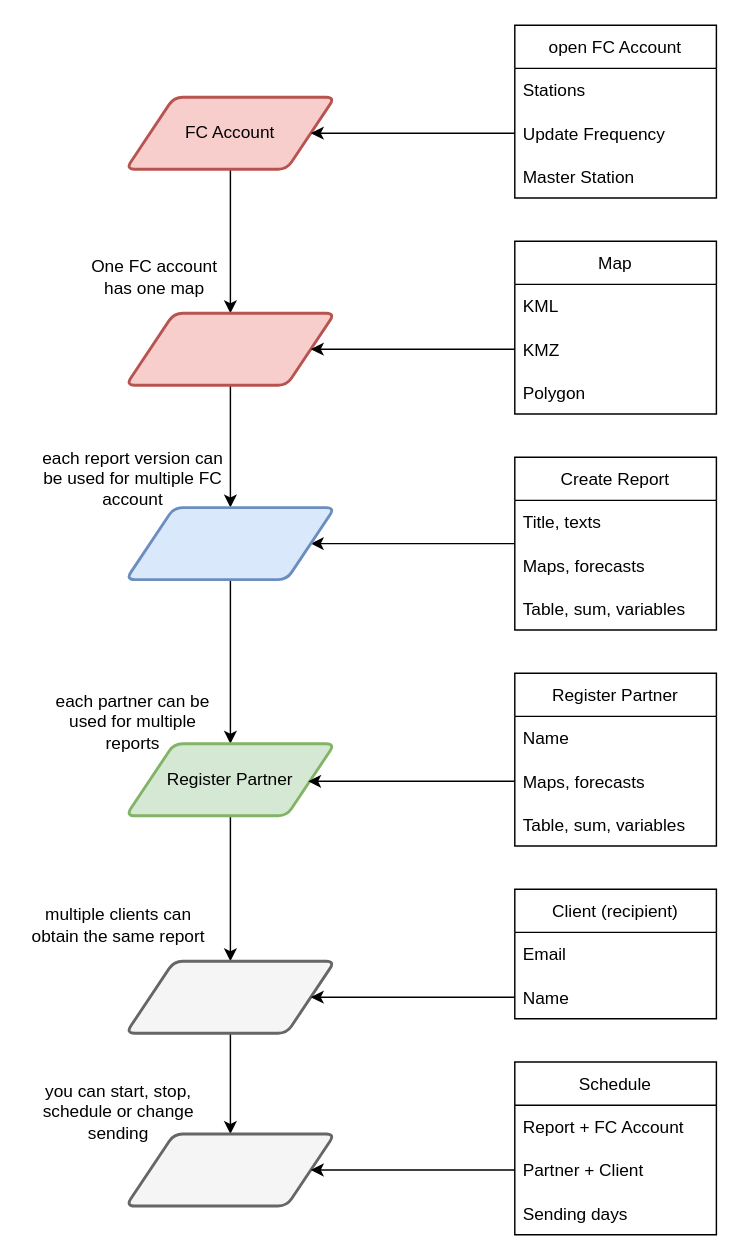
The diagram is 742 pixels wide and 1260 high, and some of its shapes have lost their labels. The centre of each missing label's shape, as x and y in pixels:
"Create Report Version" goes at point (230, 542).
"Register Client" goes at point (230, 996).
"Schedule Sending" goes at point (230, 1169).
"Upload Map" goes at point (230, 348).
